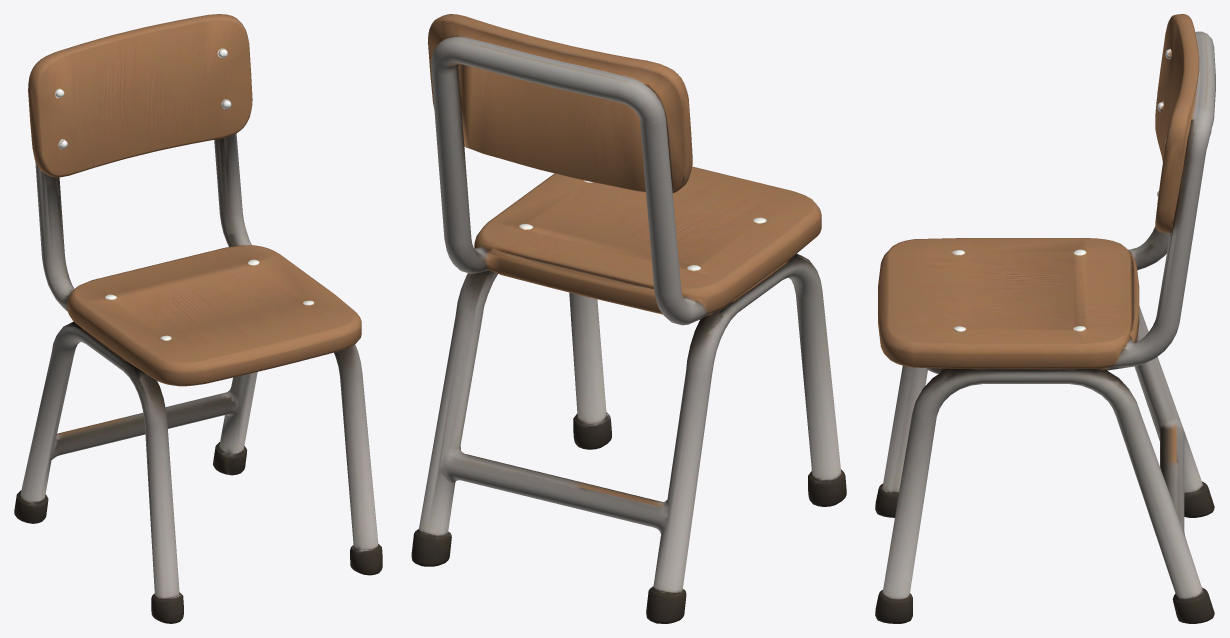
File: school_chair_realistic_style_760df96d_v2.glb
3 renders of one model, left to right at view 1: azimuth 30°, elevation 25°; view 2: azimuth 150°, elevation 25°; view 3: azimuth 270°, elevation 25°, orthographic. The views are drawn at different scales.
Parts seen in each view (by area): view 1: texture_pbr_20250901; view 2: texture_pbr_20250901; view 3: texture_pbr_20250901.
Part boxes in pixels (bbox=[...]): texture_pbr_20250901: bbox=[14, 14, 382, 623]; texture_pbr_20250901: bbox=[411, 14, 846, 623]; texture_pbr_20250901: bbox=[875, 14, 1215, 623].
Bounding box in the file's own units: 0.9687 × 1.9 × 1.16.
Materials: 1 (1 with a texture image).
